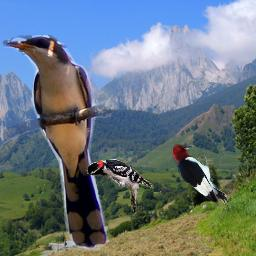Cuckoo: (3, 35, 111, 252)
Woodpecker: (83, 158, 154, 216), (173, 144, 230, 206)
